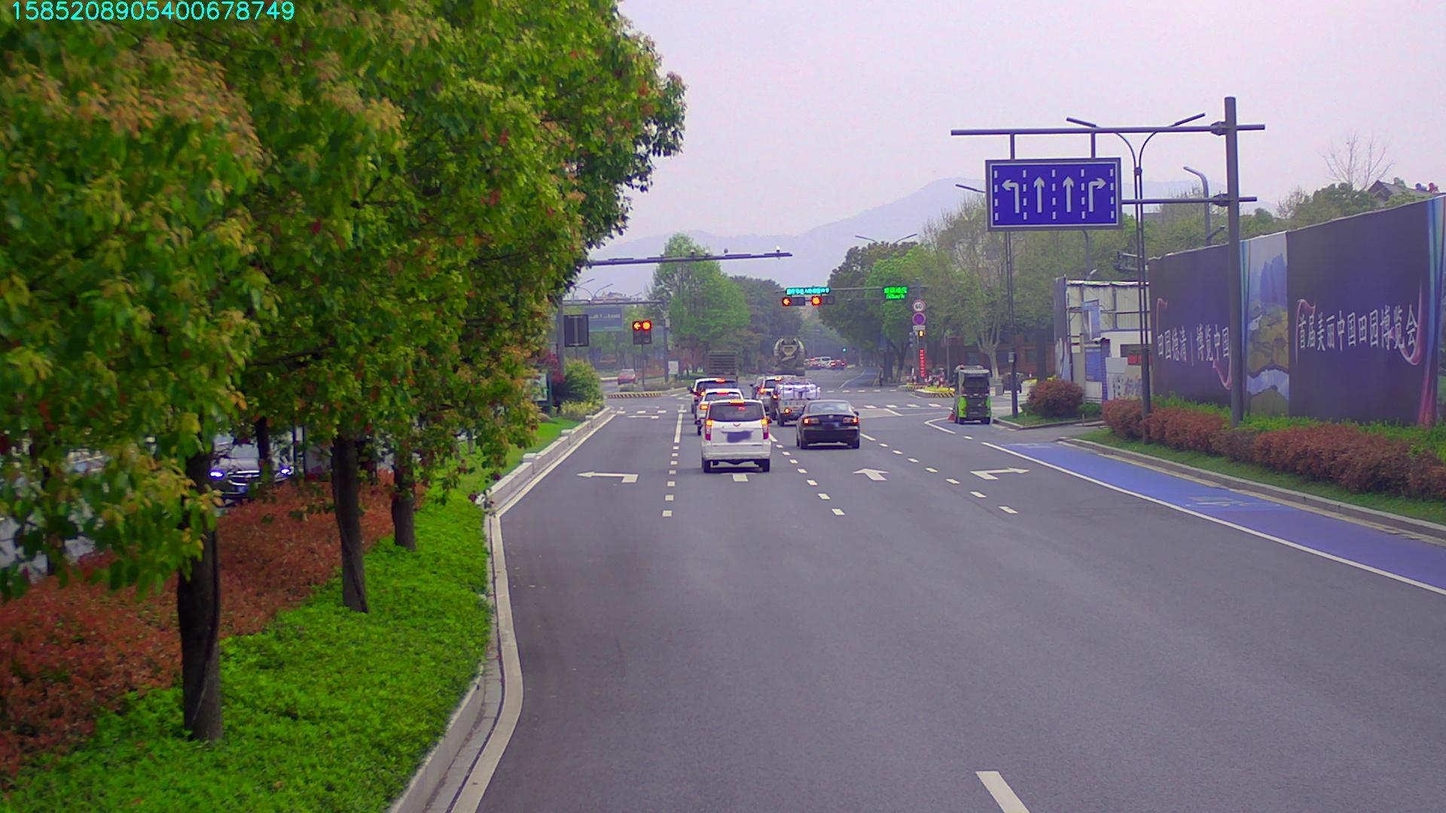red: (780, 291, 801, 306), (810, 293, 825, 306)
wait_on: (786, 284, 831, 294)
